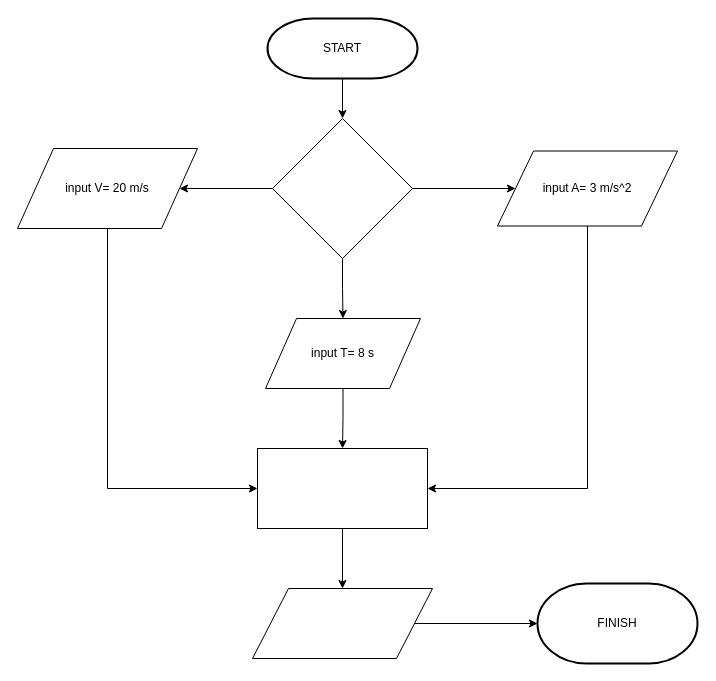
This 716x681 diagram has some shape labels left out. Here are the shapes that lost their labels. From the top down, the centre of each, then its label:
At pixel 342 188: "V= Kecepatan A= Percepatan T= Waktu".
At pixel 342 488: "V= 20m/s + (3m/s^2*8s)".
At pixel 342 623: "Output V= 44 m/s".
